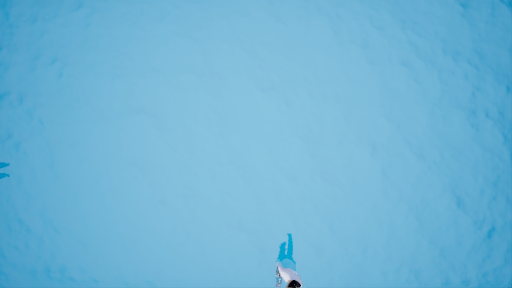person: (259, 226, 311, 288)
